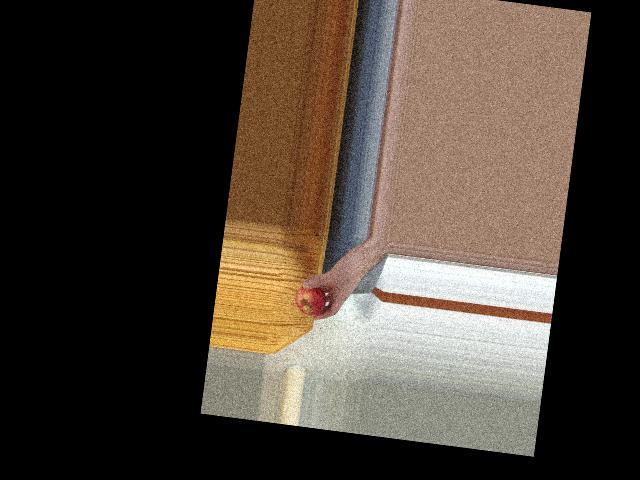apple: (293, 279, 329, 317)
